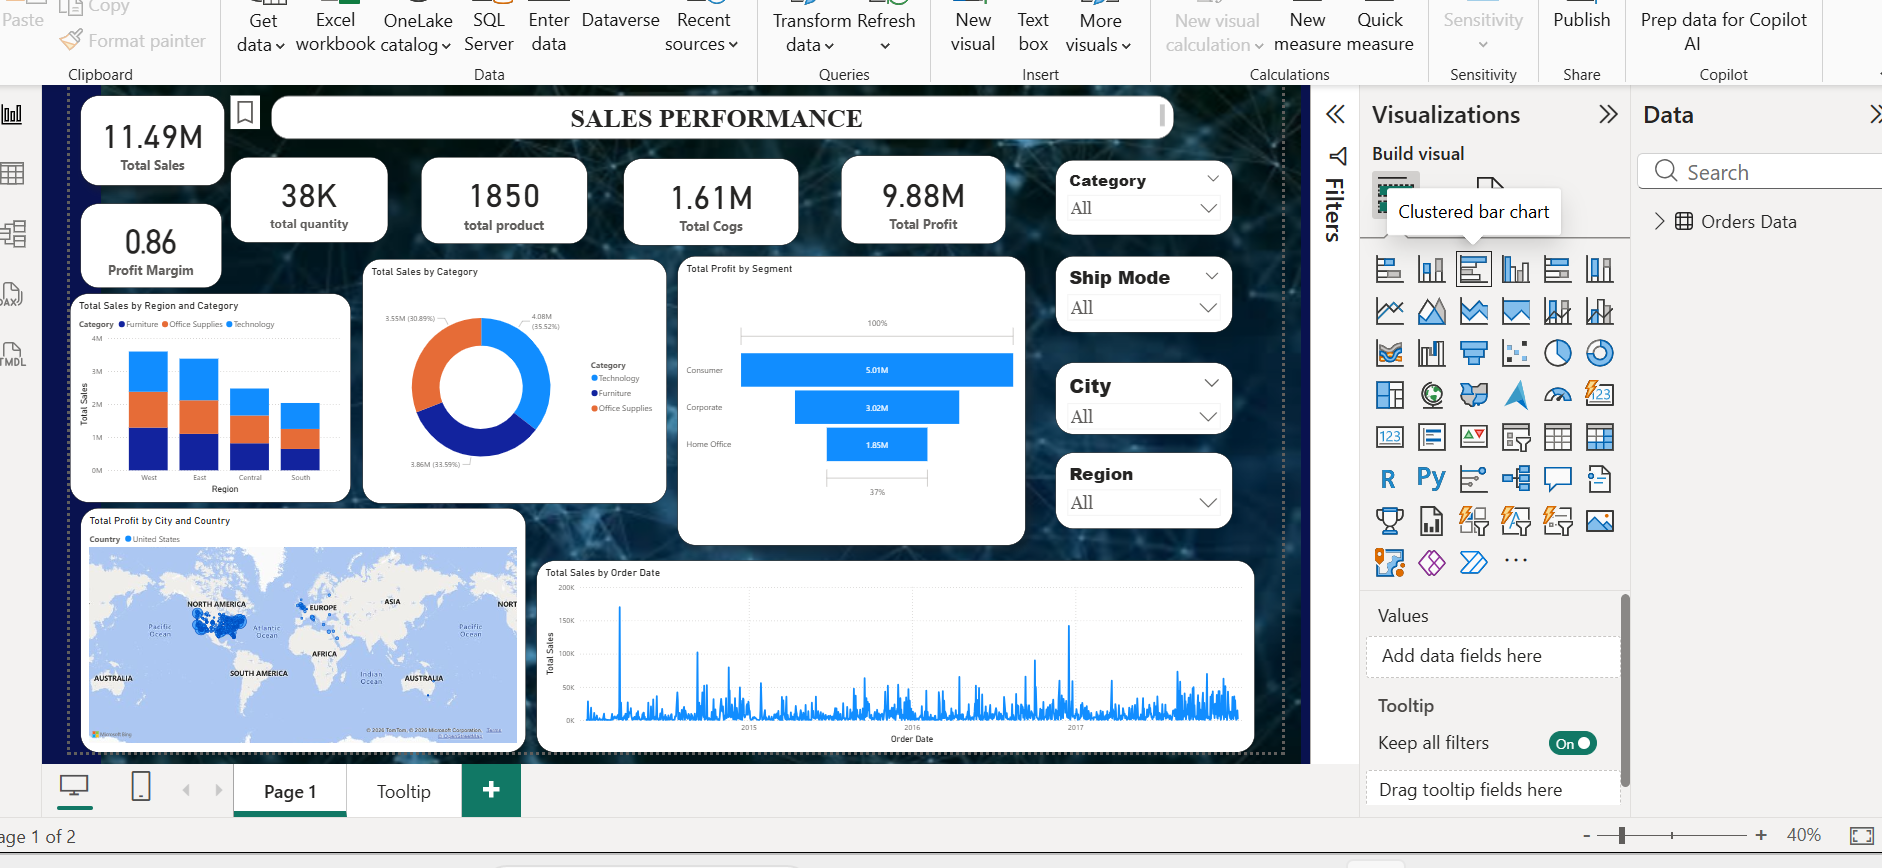

What the dashboard file says about the page in this screenshot:
{"tool":"powerbi","page":{"name":"Page 1","canvas":[2000,1100],"ordinal":0},"visuals":[{"type":"textbox","box":[331.5,17.3,1489.2,71.7],"z":0},{"type":"card","fields":{"Values":["Orders Data.Total Sales"]},"box":[17.8,17.8,238,149],"z":1000},{"type":"card","fields":{"Values":["Orders Data.total quantity"]},"box":[264.7,118.7,259.8,141],"z":2000},{"type":"card","fields":{"Values":["Orders Data.total product"]},"box":[578.9,118.7,274.6,143.5],"z":3000},{"type":"columnChart","fields":{"Category":["Orders Data.Region"],"Y":["Orders Data.Total Sales"],"Series":["Orders Data.Category"]},"box":[0,344.9,463.1,344.9],"z":4000},{"type":"donutChart","fields":{"Y":["Orders Data.Total Sales"],"Category":["Orders Data.Category"]},"box":[482.5,286.6,502,403.2],"z":5000},{"type":"slicer","fields":{"Values":["Orders Data.Category"]},"box":[1625.3,123.7,291.9,123.7],"z":6000},{"type":"slicer","fields":{"Values":["Orders Data.Ship Mode"]},"box":[1625.3,282,291.9,126.2],"z":7000},{"type":"slicer","fields":{"Values":["Orders Data.City"]},"box":[1625.3,457.7,291.9,118.7],"z":8000},{"type":"slicer","fields":{"Values":["Orders Data.Region"]},"box":[1625.3,606.1,291.9,126.2],"z":9000},{"type":"card","fields":{"Values":["Orders Data.Total Cogs"]},"box":[912.8,121.2,289.4,143.5],"z":10000},{"type":"actionButton","box":[263.9,17.8,48.6,55.1],"z":11000},{"type":"card","fields":{"Values":["Orders Data.Total Profit"]},"box":[1271.5,116.3,272.1,146],"z":12000},{"type":"card","fields":{"Values":["Orders Data.Profit Margim"]},"box":[17.8,194.3,233.2,139.3],"z":13000},{"type":"map","fields":{"Category":["Orders Data.City"],"Series":["Orders Data.Country"],"Size":["Orders Data.Total Profit"]},"box":[17.3,697.6,734.7,403.2],"z":14000},{"type":"funnel","fields":{"Category":["Orders Data.Segment"],"Y":["Orders Data.Total Profit"]},"box":[1001.9,282,573.9,477.4],"z":15000},{"type":"lineChart","fields":{"Category":["Orders Data.Order Date"],"Y":["Orders Data.Total Sales"]},"box":[769.4,784.2,1185,316.6],"z":16000}]}

Visuals, with their boxes on the page's 2000x1100 design canvas (x1, y1, x2, y2). These are canvas units, not pixel positions in the 1882x868 screenshot, which may show the page scaled, cropped or inside an application window:
textbox: <region>332, 17, 1821, 89</region>
card - Orders Data.Total Sales: <region>18, 18, 256, 167</region>
card - Orders Data.total quantity: <region>265, 119, 524, 260</region>
card - Orders Data.total product: <region>579, 119, 854, 262</region>
columnChart - Orders Data.Region x Orders Data.Total Sales: <region>0, 345, 463, 690</region>
donutChart - Orders Data.Total Sales x Orders Data.Category: <region>482, 287, 984, 690</region>
slicer - Orders Data.Category: <region>1625, 124, 1917, 247</region>
slicer - Orders Data.Ship Mode: <region>1625, 282, 1917, 408</region>
slicer - Orders Data.City: <region>1625, 458, 1917, 576</region>
slicer - Orders Data.Region: <region>1625, 606, 1917, 732</region>
card - Orders Data.Total Cogs: <region>913, 121, 1202, 265</region>
actionButton: <region>264, 18, 312, 73</region>
card - Orders Data.Total Profit: <region>1272, 116, 1544, 262</region>
card - Orders Data.Profit Margim: <region>18, 194, 251, 334</region>
map - Orders Data.City x Orders Data.Country: <region>17, 698, 752, 1101</region>
funnel - Orders Data.Segment x Orders Data.Total Profit: <region>1002, 282, 1576, 759</region>
lineChart - Orders Data.Order Date x Orders Data.Total Sales: <region>769, 784, 1954, 1101</region>
